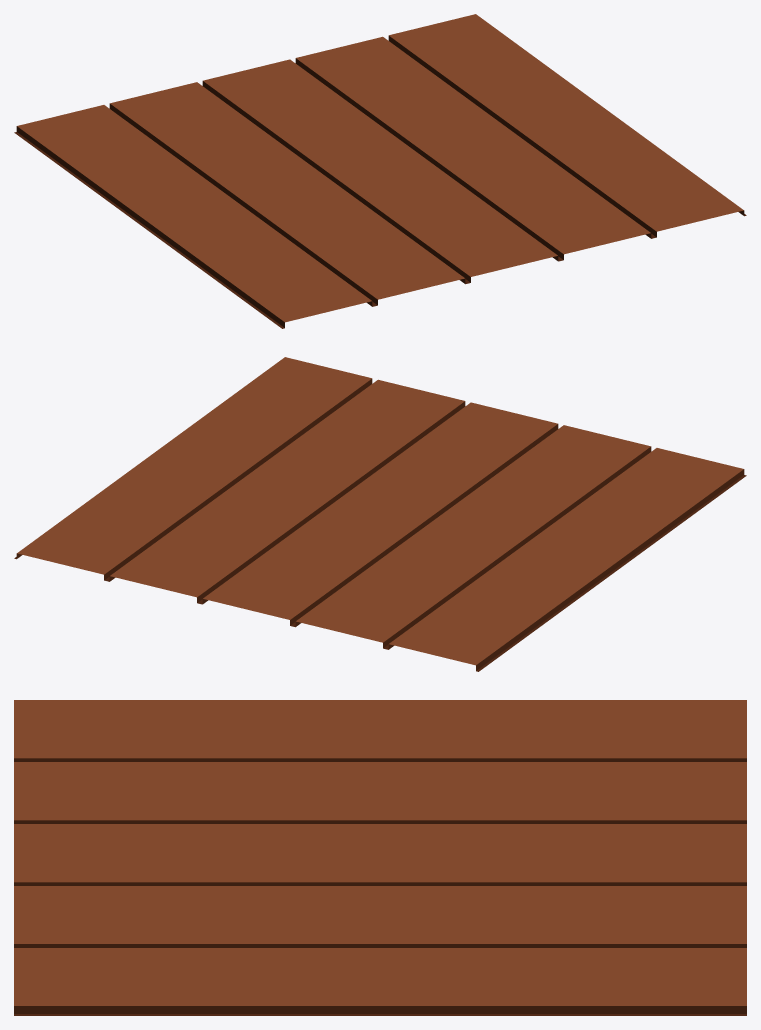
Rendered from Floor.fbx.
3 views of the same model, one above another, from view 1: azimuth 30°, elevation 25°; view 2: azimuth 150°, elevation 25°; view 3: azimuth 270°, elevation 25° (orthographic). The views are drawn at different scales.
Visible parts, largest first — view 1: Floor_hi; view 2: Floor_hi; view 3: Floor_hi.
Boxes of the visible parts, x1,y1,x2,y2 form: Floor_hi: (14, 14, 746, 328); Floor_hi: (14, 357, 746, 671); Floor_hi: (14, 700, 746, 1015).
Bounding box in the file's own units: 0.5 × 0.006 × 0.5.
